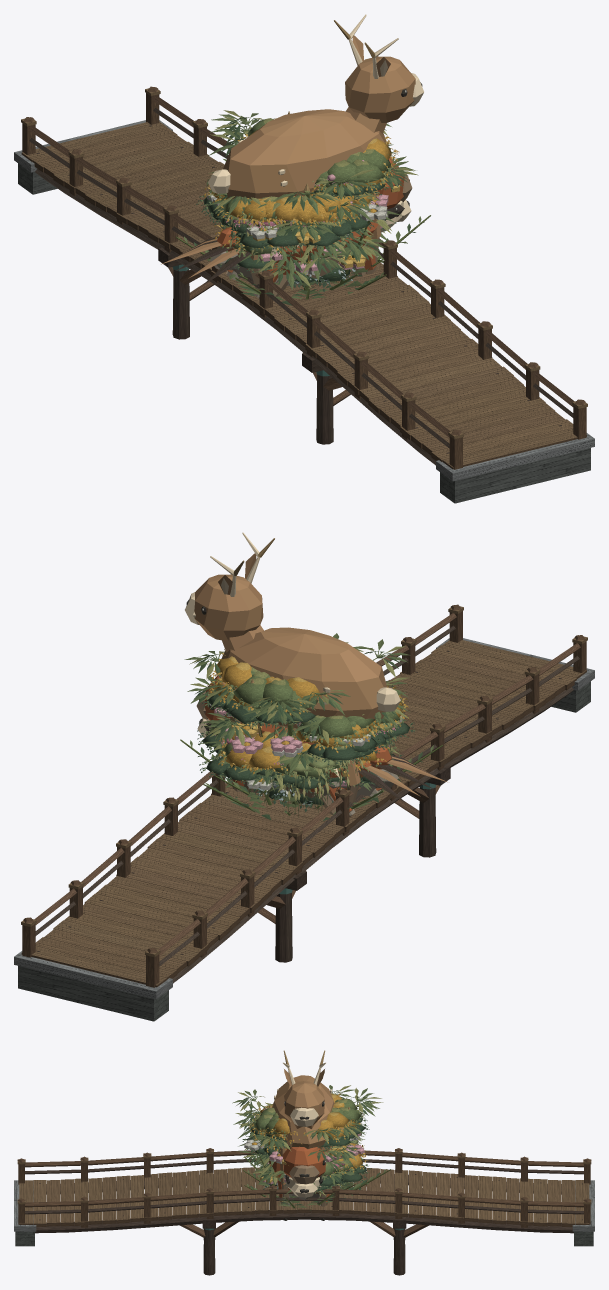
Rendered from river_land.glb.
The picture shows the model from 3 angles, top to bottom: view 1: azimuth 30°, elevation 25°; view 2: azimuth 150°, elevation 25°; view 3: azimuth 270°, elevation 25°; orthographic projection. The views are drawn at different scales.
Parts seen in each view (by area): view 1: jegal_bridge, deer_body, bamboo0, bamboo1, pine1, ginkgo1, ginkgo0, camphor0, piglet_body, camphor1, fern, pheasant_body (+5 smaller); view 2: jegal_bridge, deer_body, camphor0, bamboo0, pine0, bamboo1, ginkgo1, pine1, ginkgo0, willow0, pheasant_body, azalea (+5 smaller); view 3: jegal_bridge, deer_body, bamboo0, bamboo1, piglet_body, camphor0, pine0, ginkgo0, ginkgo1, fern, pine1, badger_body (+3 smaller).
Part boxes in pixels (bbox=[...]): jegal_bridge: bbox=[14, 86, 594, 503]; deer_body: bbox=[208, 14, 423, 199]; bamboo0: bbox=[206, 110, 418, 276]; bamboo1: bbox=[208, 116, 415, 290]; pine1: bbox=[203, 167, 395, 272]; ginkgo1: bbox=[204, 130, 395, 253]; ginkgo0: bbox=[217, 131, 399, 230]; camphor0: bbox=[206, 118, 390, 232]; piglet_body: bbox=[217, 157, 412, 274]; camphor1: bbox=[208, 132, 396, 263]; fern: bbox=[176, 215, 430, 305]; pheasant_body: bbox=[161, 236, 250, 284]; jegal_bridge: bbox=[14, 604, 594, 1021]; deer_body: bbox=[185, 532, 400, 729]; camphor0: bbox=[201, 667, 407, 777]; bamboo0: bbox=[187, 633, 410, 807]; pine0: bbox=[197, 688, 398, 787]; bamboo1: bbox=[184, 651, 409, 807]; ginkgo1: bbox=[207, 676, 408, 774]; pine1: bbox=[202, 690, 416, 793]; ginkgo0: bbox=[207, 649, 408, 776]; willow0: bbox=[246, 722, 397, 817]; pheasant_body: bbox=[358, 755, 447, 802]; azalea: bbox=[214, 707, 390, 805]; jegal_bridge: bbox=[14, 1148, 594, 1275]; deer_body: bbox=[272, 1050, 334, 1149]; bamboo0: bbox=[232, 1085, 381, 1196]; bamboo1: bbox=[233, 1095, 383, 1191]; piglet_body: bbox=[269, 1146, 331, 1189]; camphor0: bbox=[254, 1098, 364, 1184]; pine0: bbox=[246, 1115, 371, 1193]; ginkgo0: bbox=[248, 1104, 354, 1168]; ginkgo1: bbox=[249, 1093, 368, 1177]; fern: bbox=[243, 1156, 391, 1210]; pine1: bbox=[242, 1124, 365, 1193]; badger_body: bbox=[284, 1174, 323, 1201].
Size of the model in its own units: 1.97 by 2.39 by 5.7.
1 material, 1 textured.
